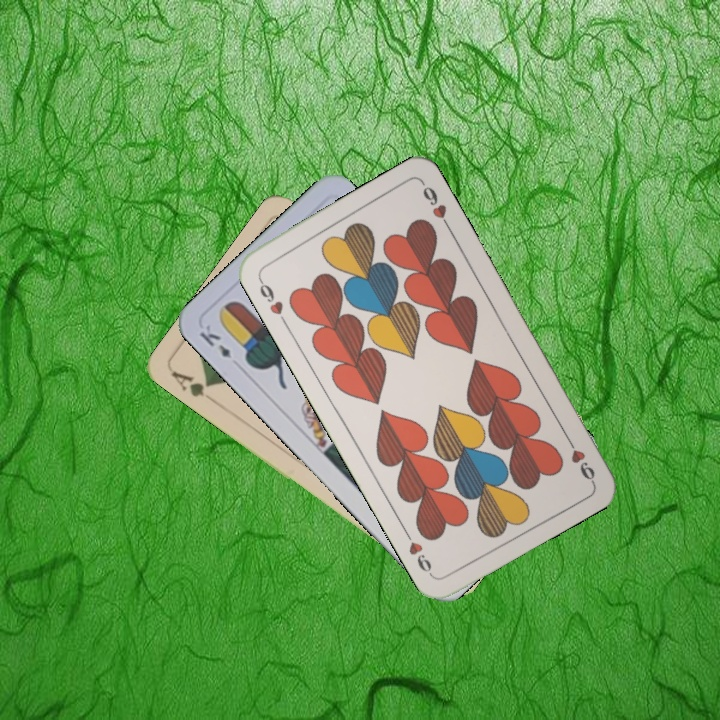EK: (195, 320, 234, 361)
GA: (167, 367, 220, 407)
H9: (561, 431, 598, 485), (254, 273, 290, 327)
